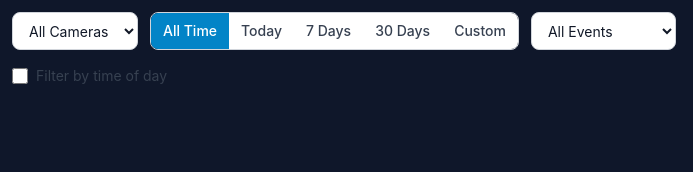
Scenario: EventFilters › should show custom date inputs when Custom is clicked
Click the button "Custom": {"x": 480, "y": 31} [442,13,518,49]
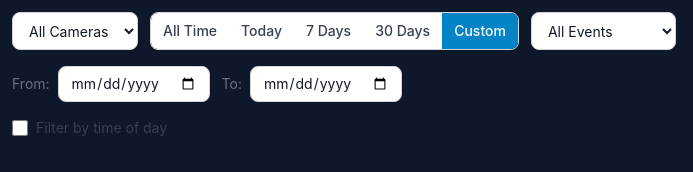
Expected: the text "From:" is shown, [12,66,210,102]
Expected: the text "To:" is shown, [222,66,402,102]
